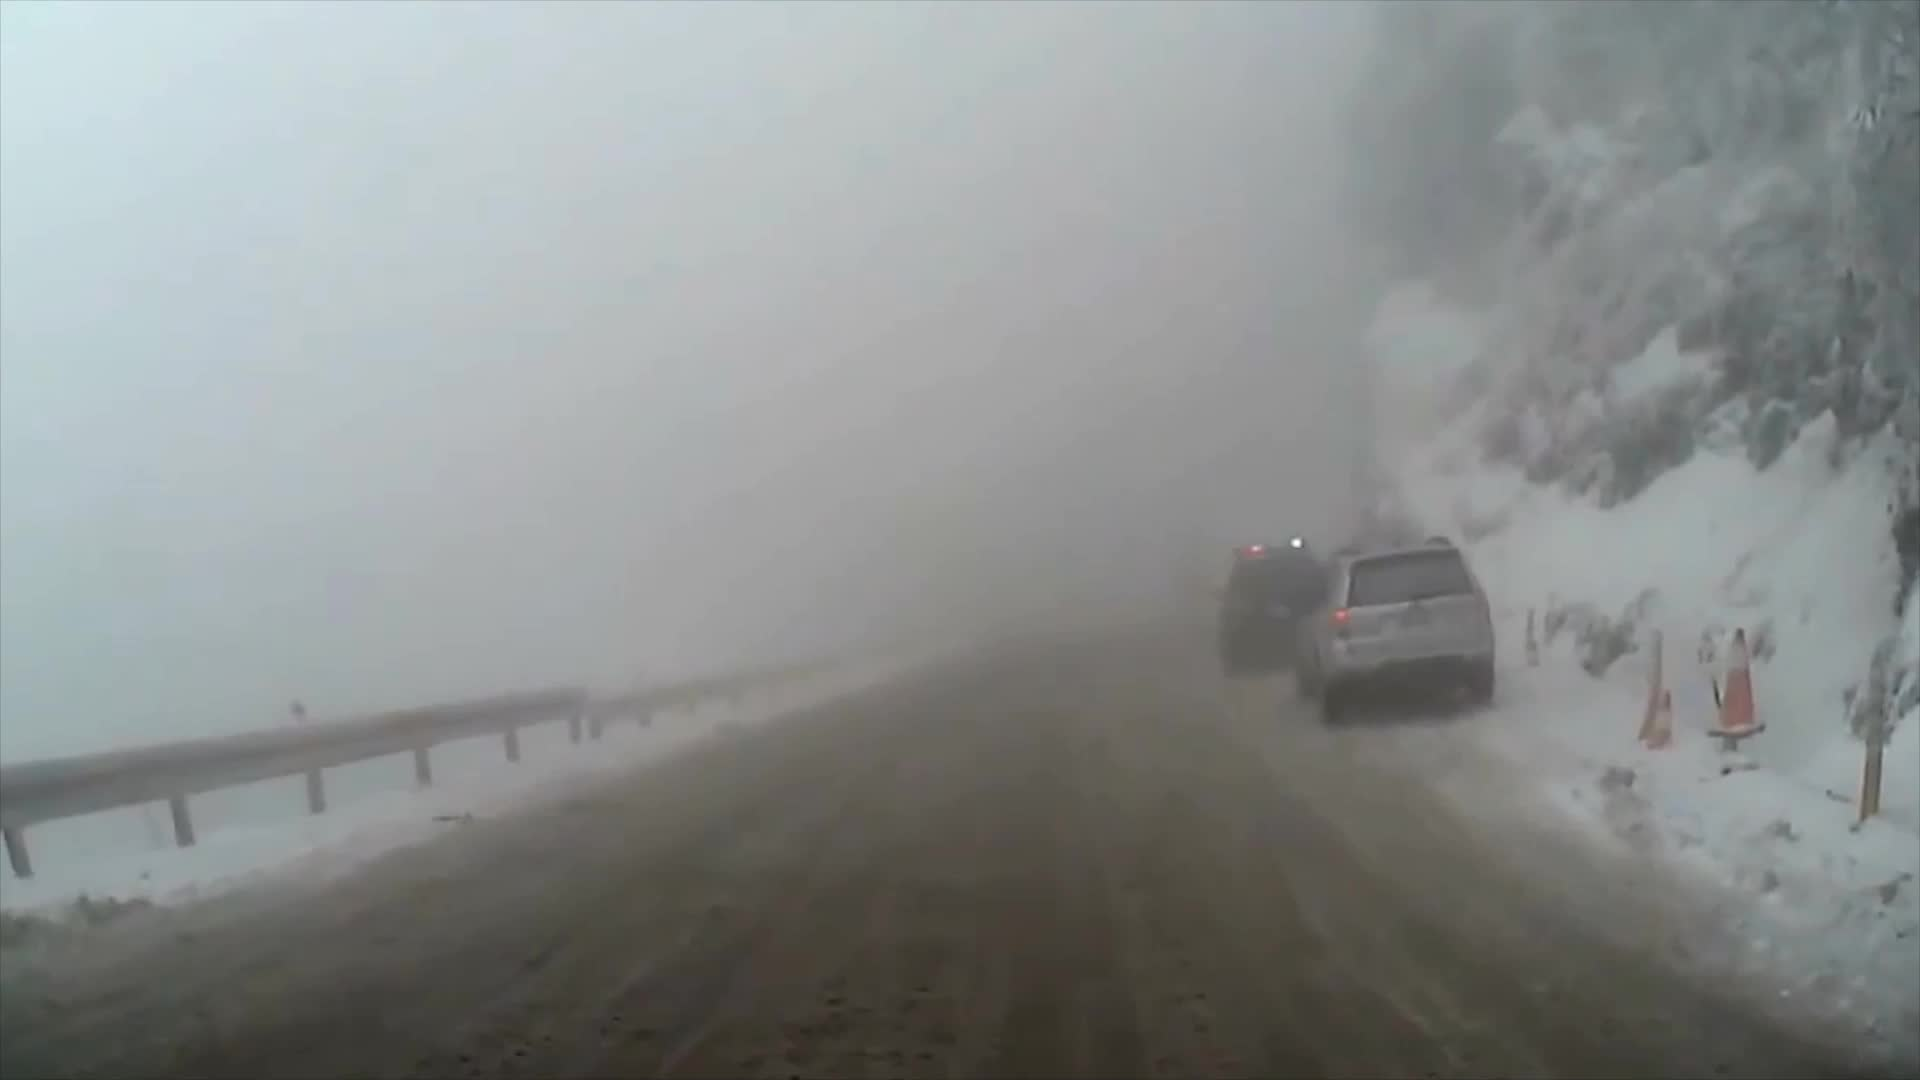vehicle: (1288, 531, 1495, 727), (1200, 527, 1335, 674)
